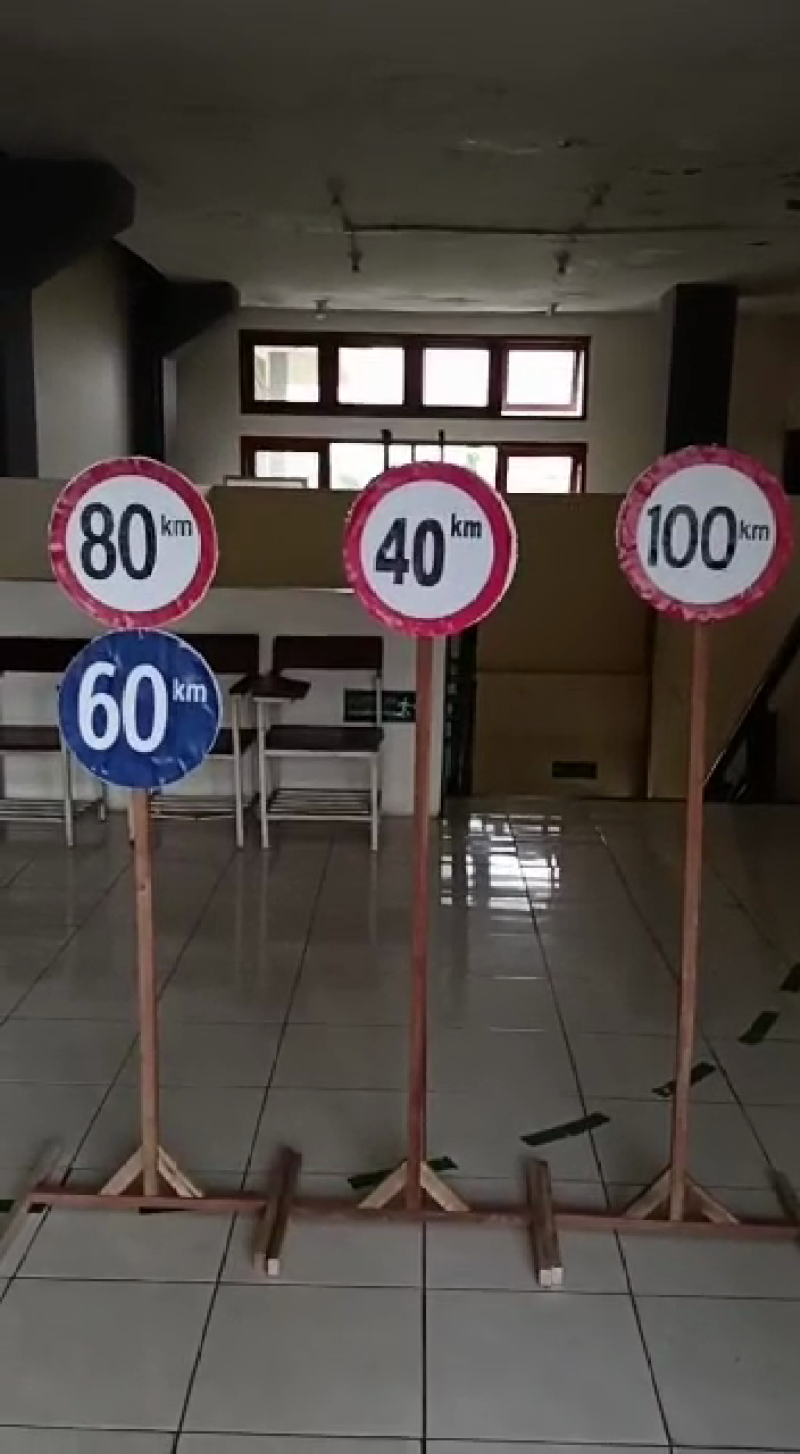batas maksimal 100kmperjam: (600, 444, 800, 644)
batas maksimal 40kmperjam: (346, 453, 522, 640)
batas maksimal 80kmperjam minimal 60kmperjam: (44, 455, 229, 801)
